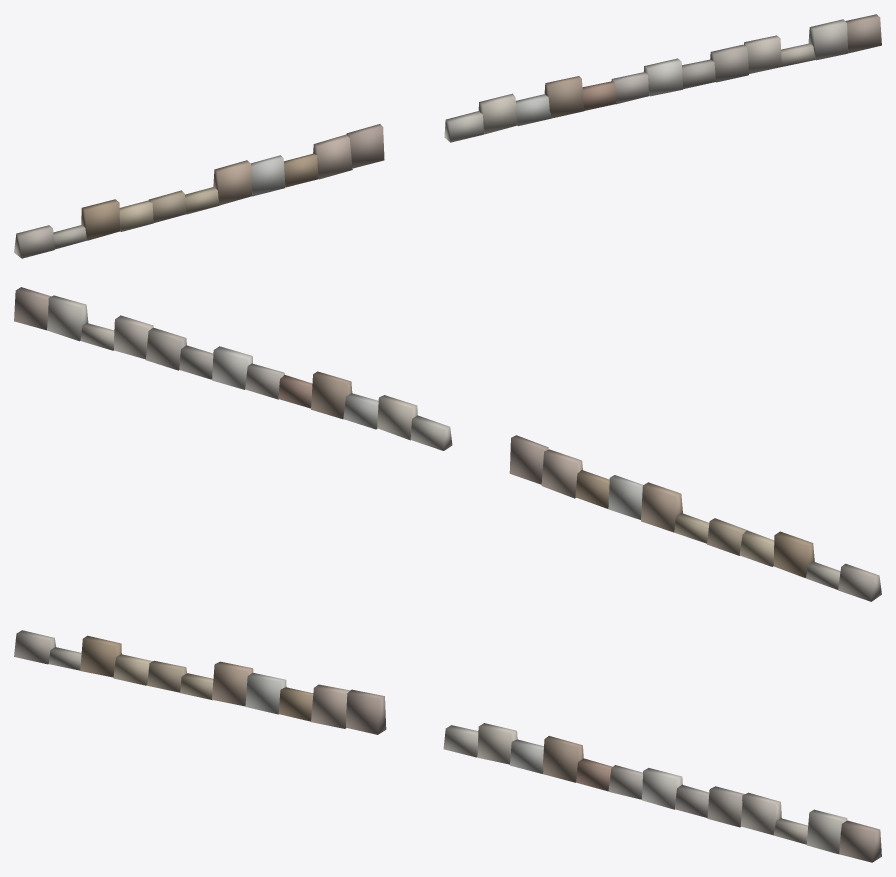
The model's file is farm_-8_10_far.glb.
The picture shows the model from 3 angles, top to bottom: view 1: azimuth 30°, elevation 25°; view 2: azimuth 150°, elevation 25°; view 3: azimuth 330°, elevation 25°; orthographic projection. The views are drawn at different scales.
Visible parts, largest first — view 1: geometry_0; view 2: geometry_0; view 3: geometry_0.
Part boxes in pixels (x1=…): geometry_0: x1=14, y1=14, x2=881, y2=258; geometry_0: x1=14, y1=287, x2=881, y2=601; geometry_0: x1=14, y1=630, x2=881, y2=862.
Size of the model in its own units: 40.85 by 2.99 by 3.49.
